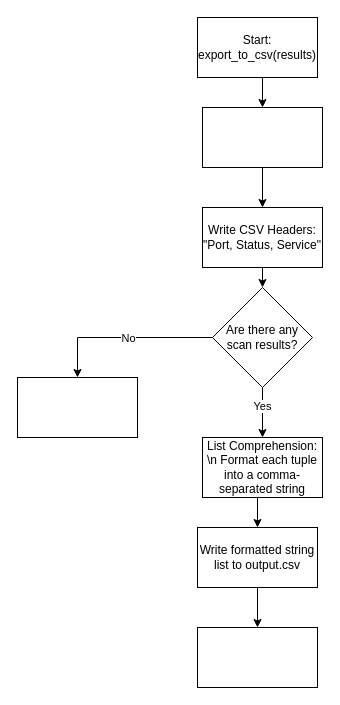
The diagram is 340 pixels wide and 705 high, and some of its shapes have lost their labels. Each missing label, with the box of its shape:
Close File & Print "Export Successful!": (196, 626, 318, 688)
Create / Open "output.csv" file in write mode: (202, 106, 322, 168)
Print "No results to export": (16, 376, 138, 438)
